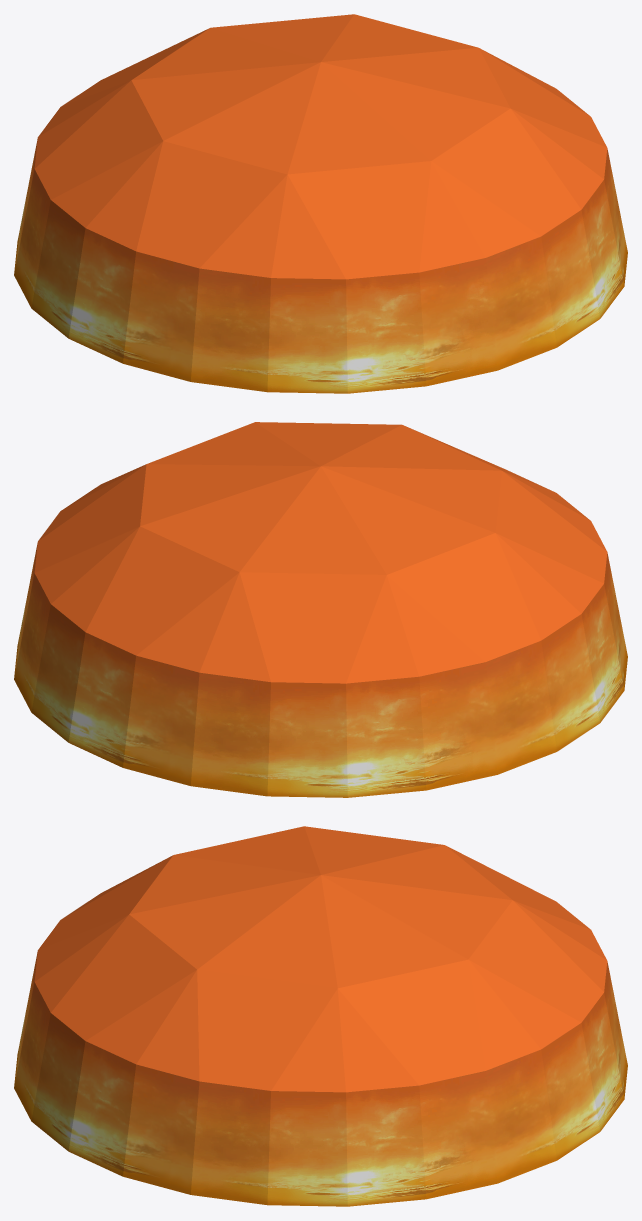
The model's file is Skybox4.obj.
3 renders of one model, top to bottom at view 1: azimuth 30°, elevation 25°; view 2: azimuth 150°, elevation 25°; view 3: azimuth 270°, elevation 25°, orthographic.
Visible parts, largest first — view 1: Object_2; view 2: Object_2; view 3: Object_2.
Boxes of the visible parts, x1=… form: Object_2: x1=14, y1=14, x2=627, y2=393; Object_2: x1=14, y1=422, x2=627, y2=797; Object_2: x1=14, y1=826, x2=627, y2=1206.
Bounding box in the file's own units: 99619 × 36138 × 99619.
